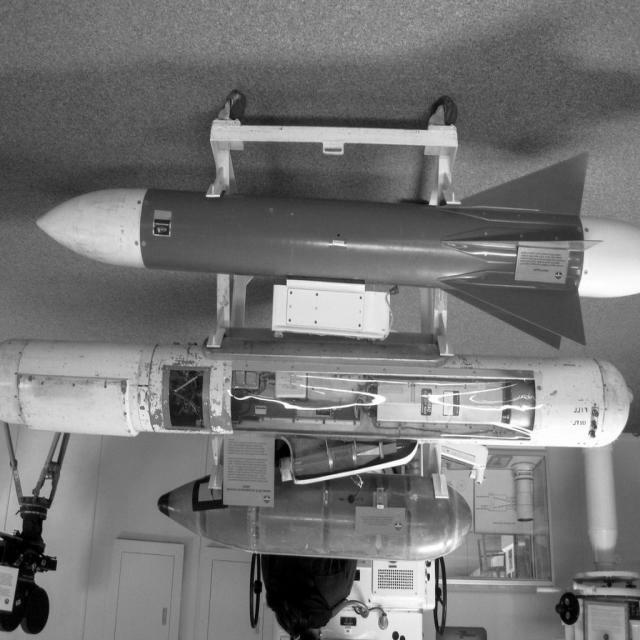missile: (35, 150, 640, 353), (38, 184, 640, 301), (0, 342, 640, 450)
